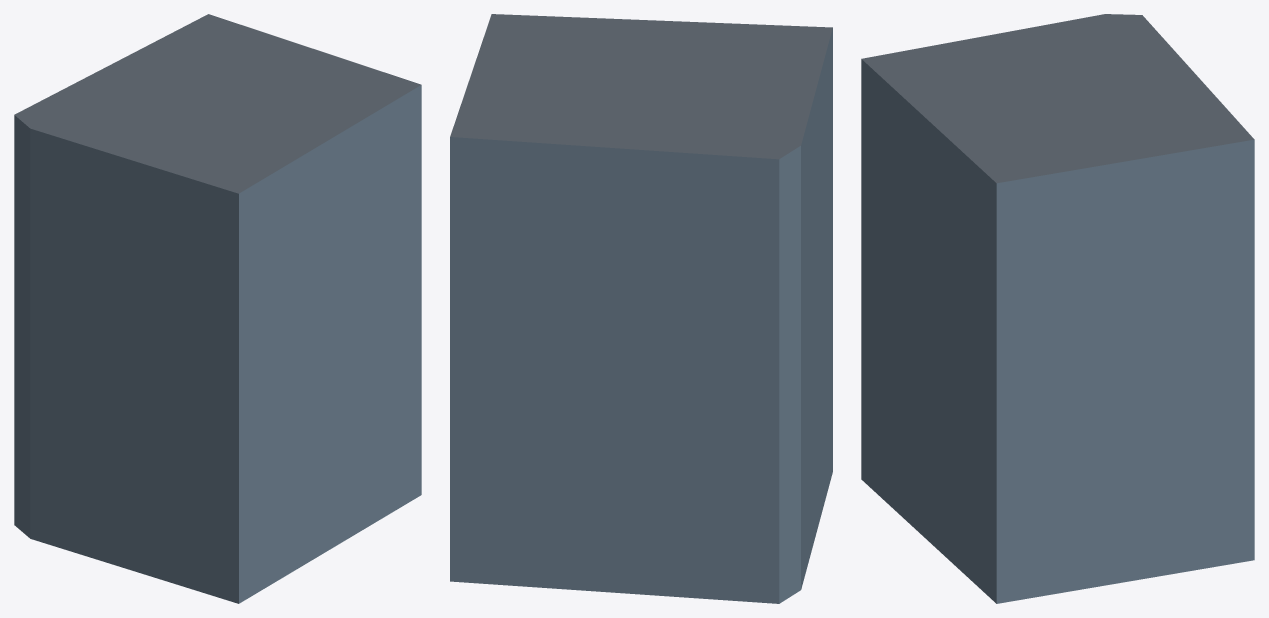
3 renders of one model, left to right at view 1: azimuth 30°, elevation 25°; view 2: azimuth 150°, elevation 25°; view 3: azimuth 270°, elevation 25°, orthographic. The views are drawn at different scales.
Visible parts, largest first — view 1: HP-w160964963; view 2: HP-w160964963; view 3: HP-w160964963.
Part boxes in pixels (box(x1,y1,x2,y2)): HP-w160964963: box(14, 14, 421, 603); HP-w160964963: box(450, 14, 832, 603); HP-w160964963: box(861, 14, 1254, 603).
Size of the model in its own units: 65.62 by 76 by 64.4.
